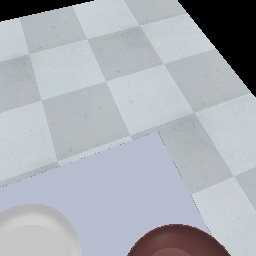Bowl: (127, 221, 232, 254)
Plate: (0, 199, 82, 256)
